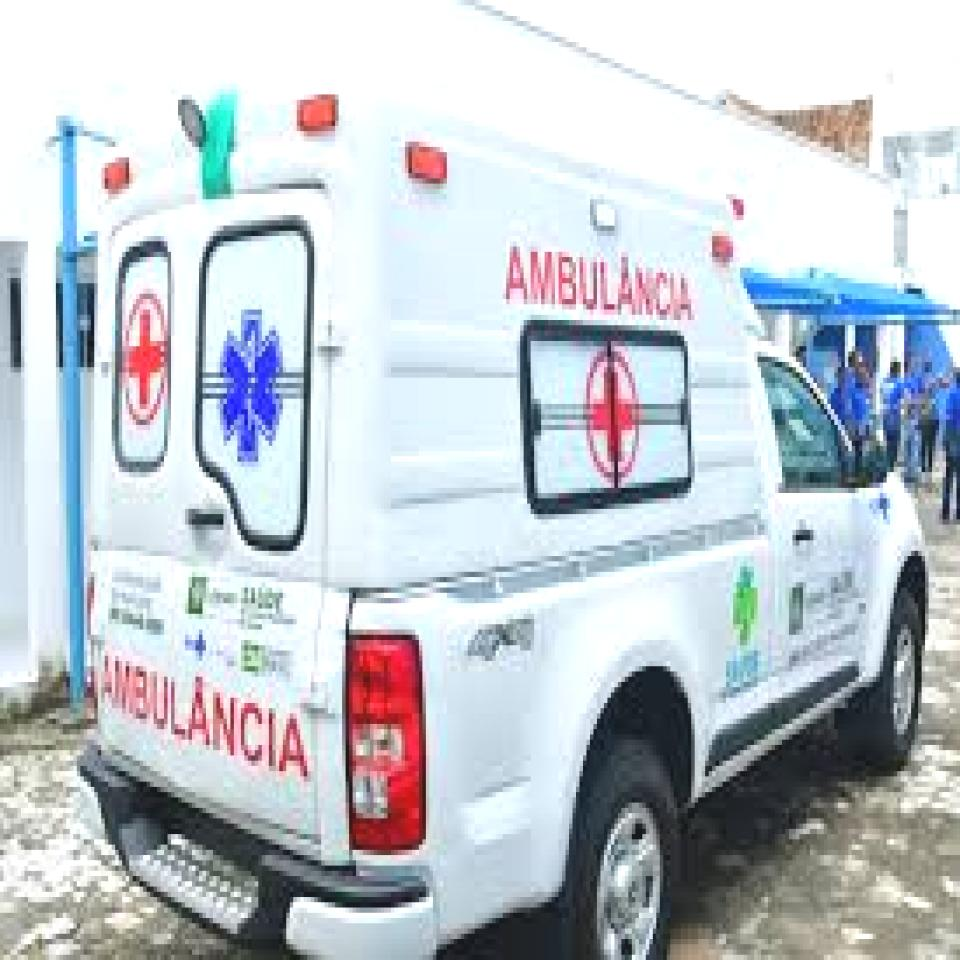ambulancia: (76, 82, 929, 960)
